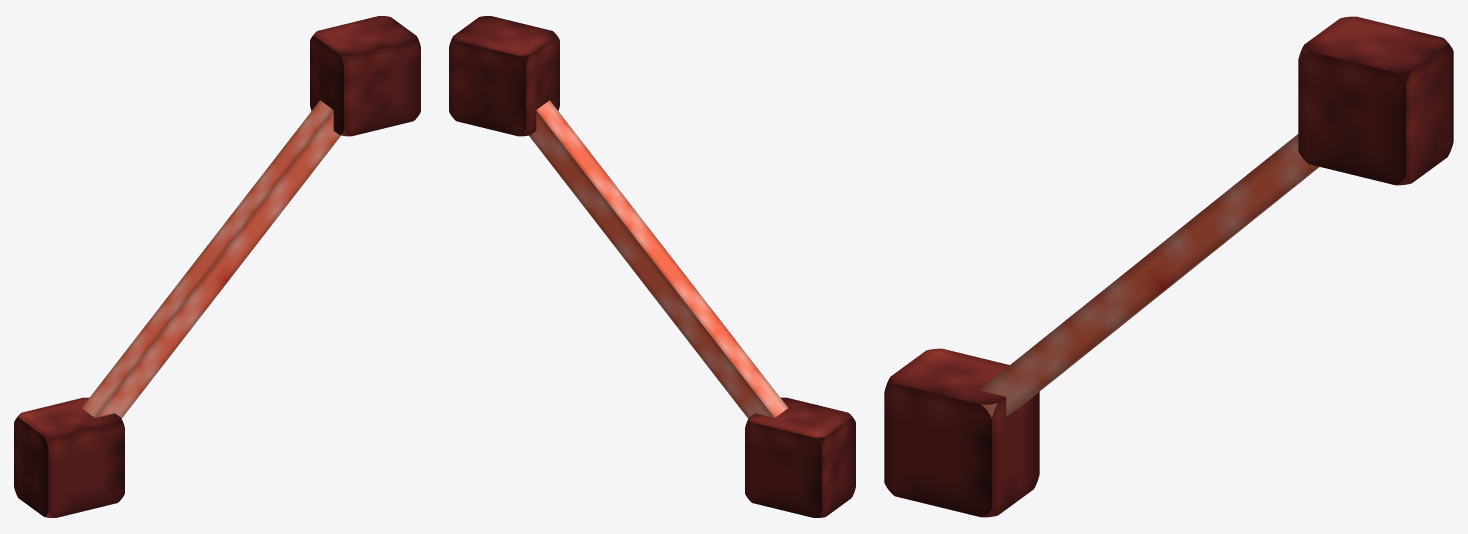
File: heartstring.obj
3 renders of one model, left to right at view 1: azimuth 30°, elevation 25°; view 2: azimuth 150°, elevation 25°; view 3: azimuth 330°, elevation 25°, orthographic. The views are drawn at different scales.
Parts seen in each view (by area): view 1: lit, fire; view 2: lit, fire; view 3: lit, fire.
Boxes of the visible parts, <box> form: lit: <box>14,16,420,517</box>; fire: <box>82,100,340,418</box>; lit: <box>449,16,855,517</box>; fire: <box>529,100,787,418</box>; lit: <box>884,16,1453,517</box>; fire: <box>979,134,1319,417</box>.
Size of the model in its own units: 0.7875 by 0.7875 by 0.125.
